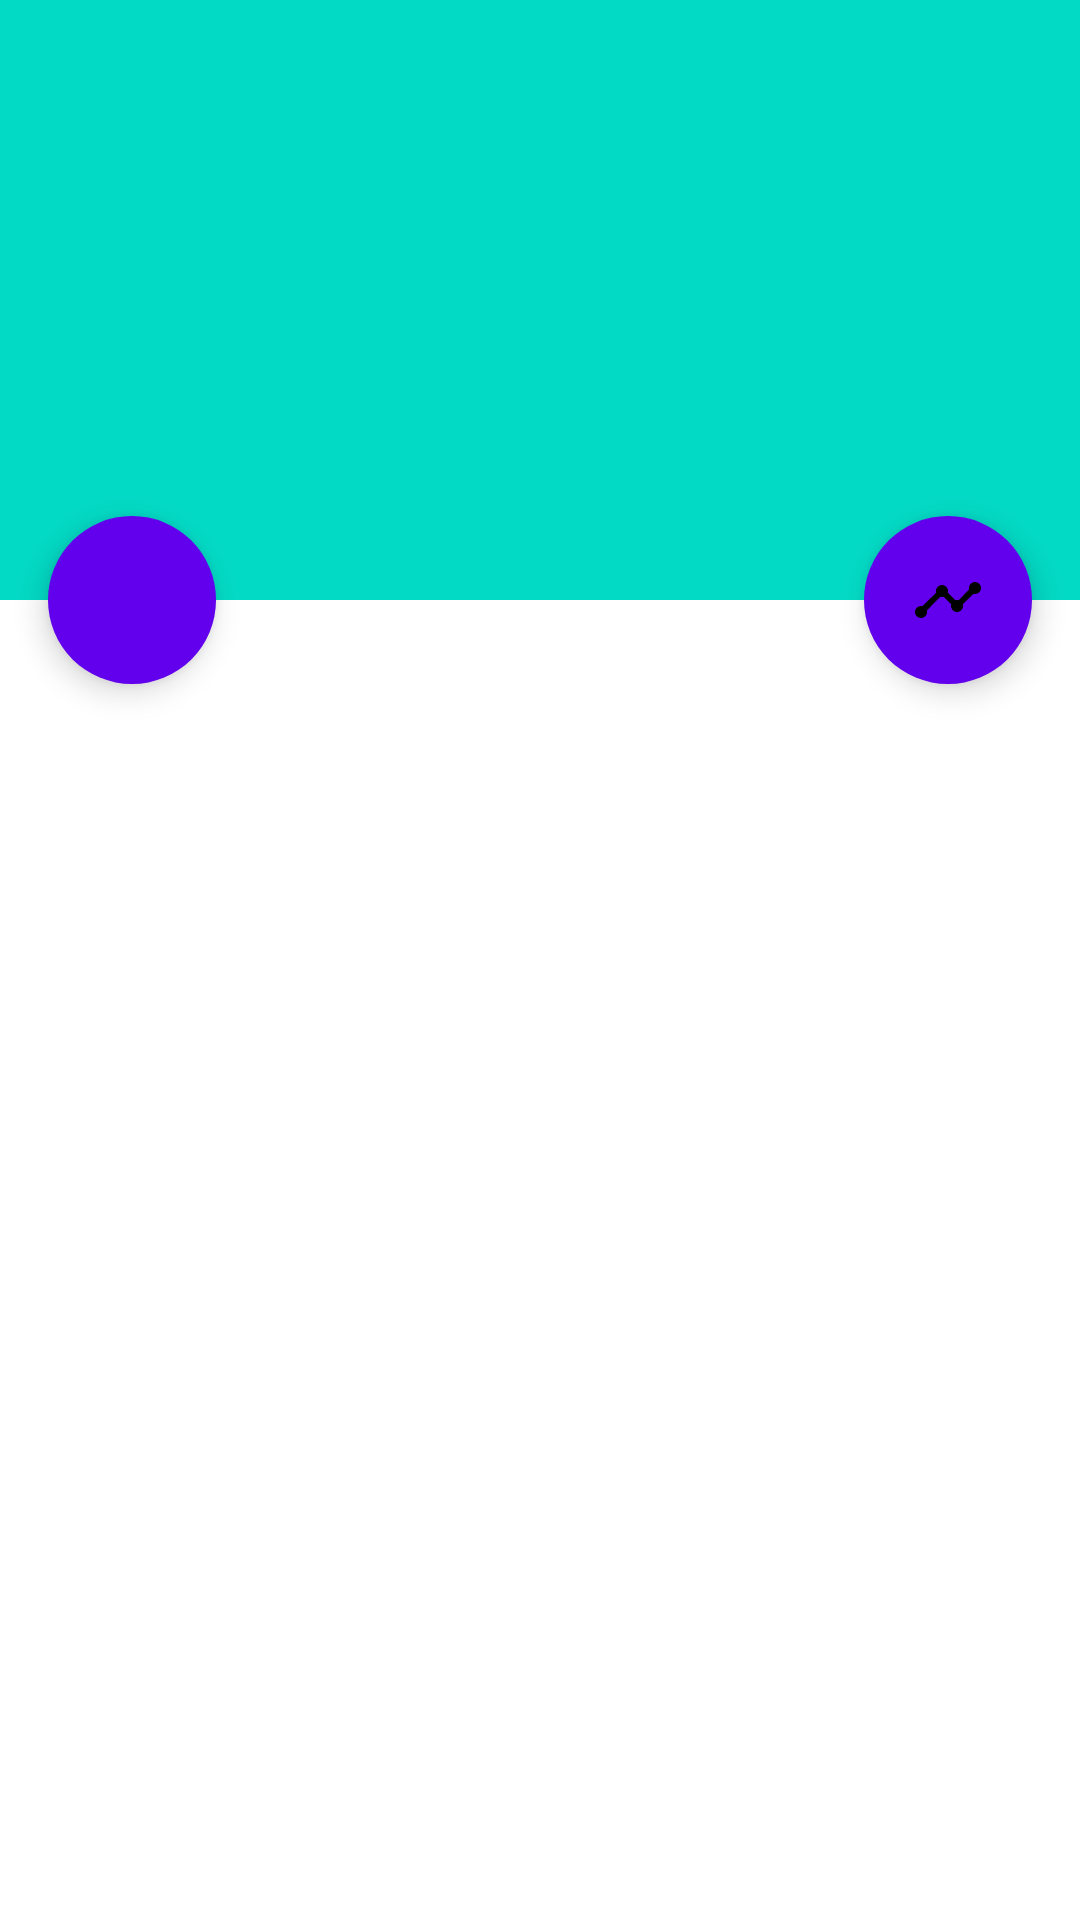

Screen size 1080px×1920px. Icon name, then its center in pixels as (x,y):
timeline: (948,600)
